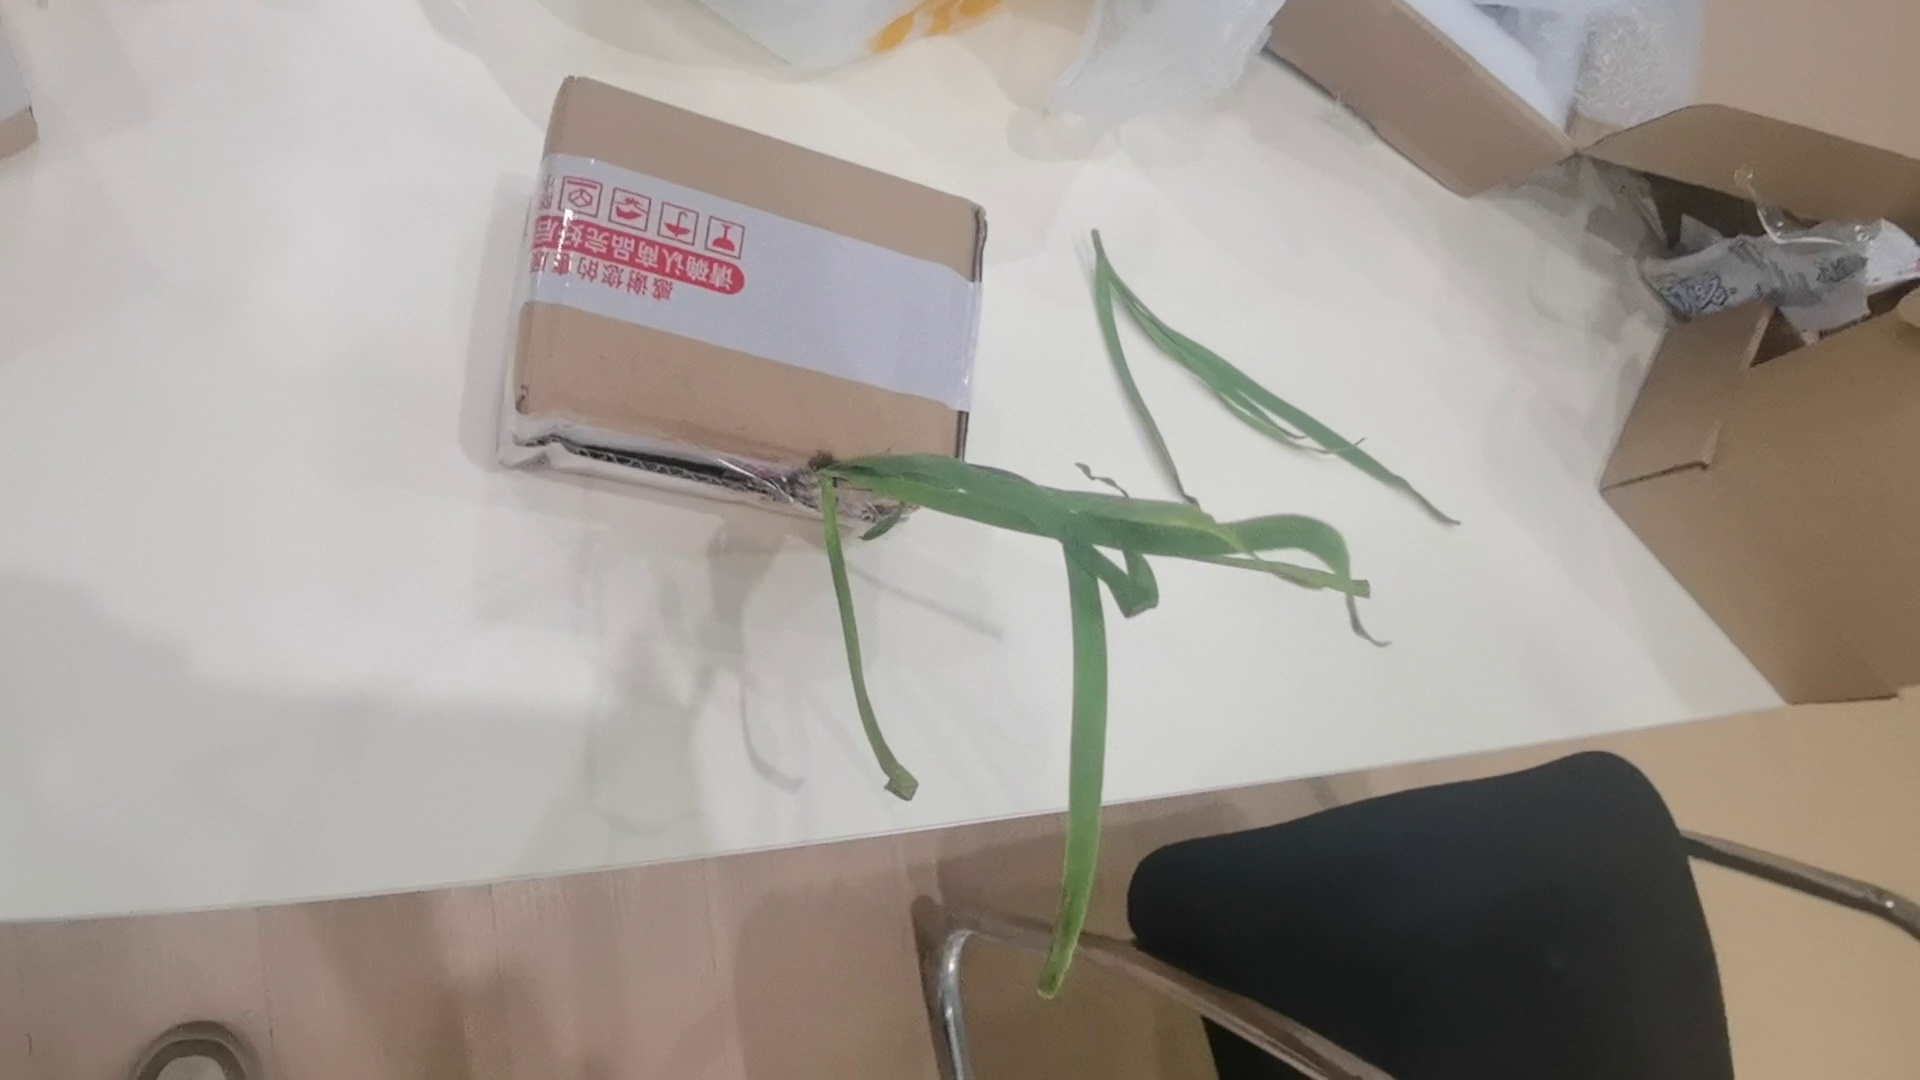chives: (798, 448, 1400, 998), (1085, 224, 1502, 497)
